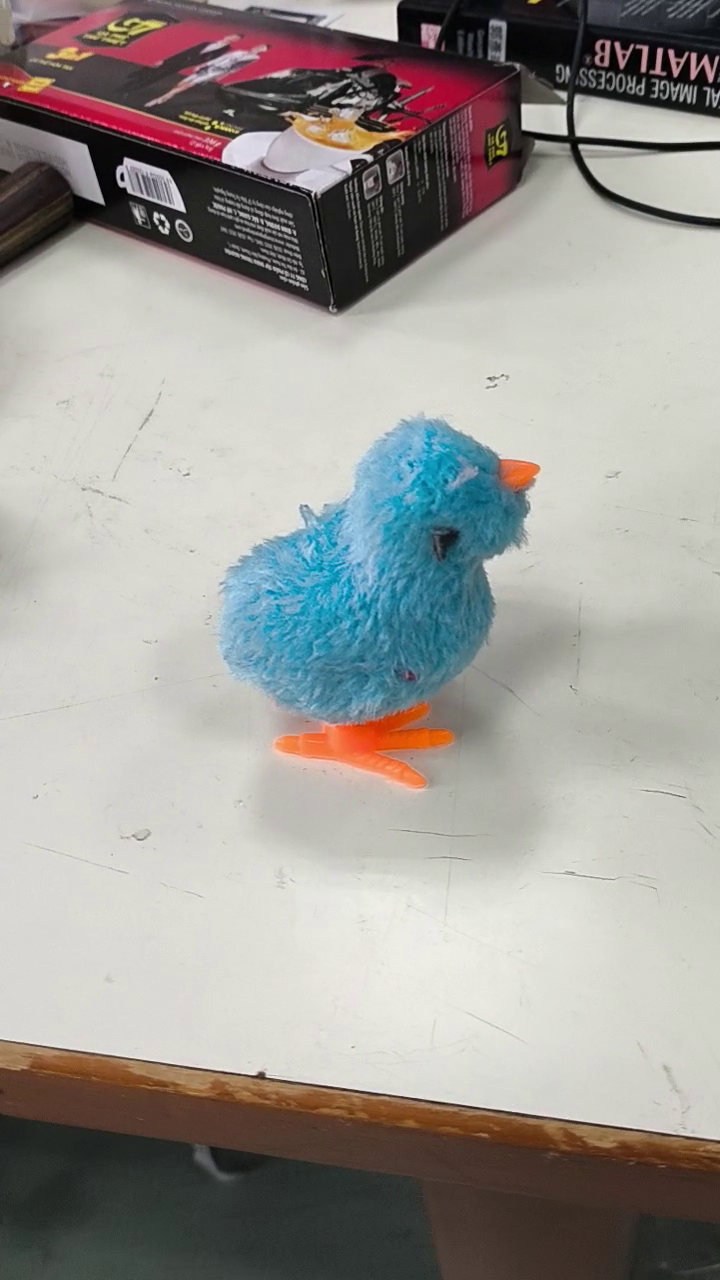blue chicken: (212, 408, 548, 797)
